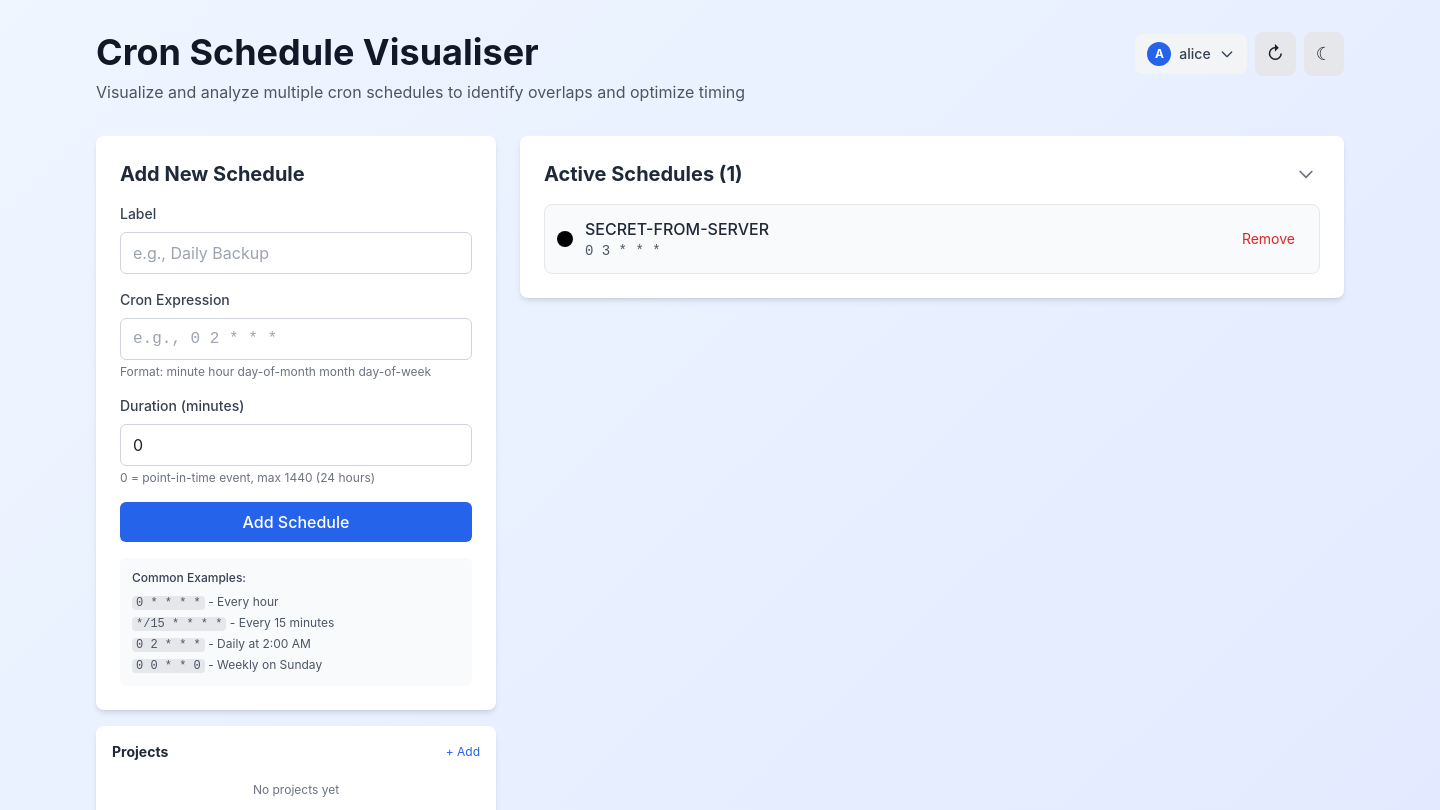
Test: App (sessions and server data) › signed in › clears the account data on sign out
Check: the text "SECRET-FROM-SERVER" is shown, box [585,219,769,239]
Click the button "A alice". click: [1191, 54]
box: [1135,34,1247,74]
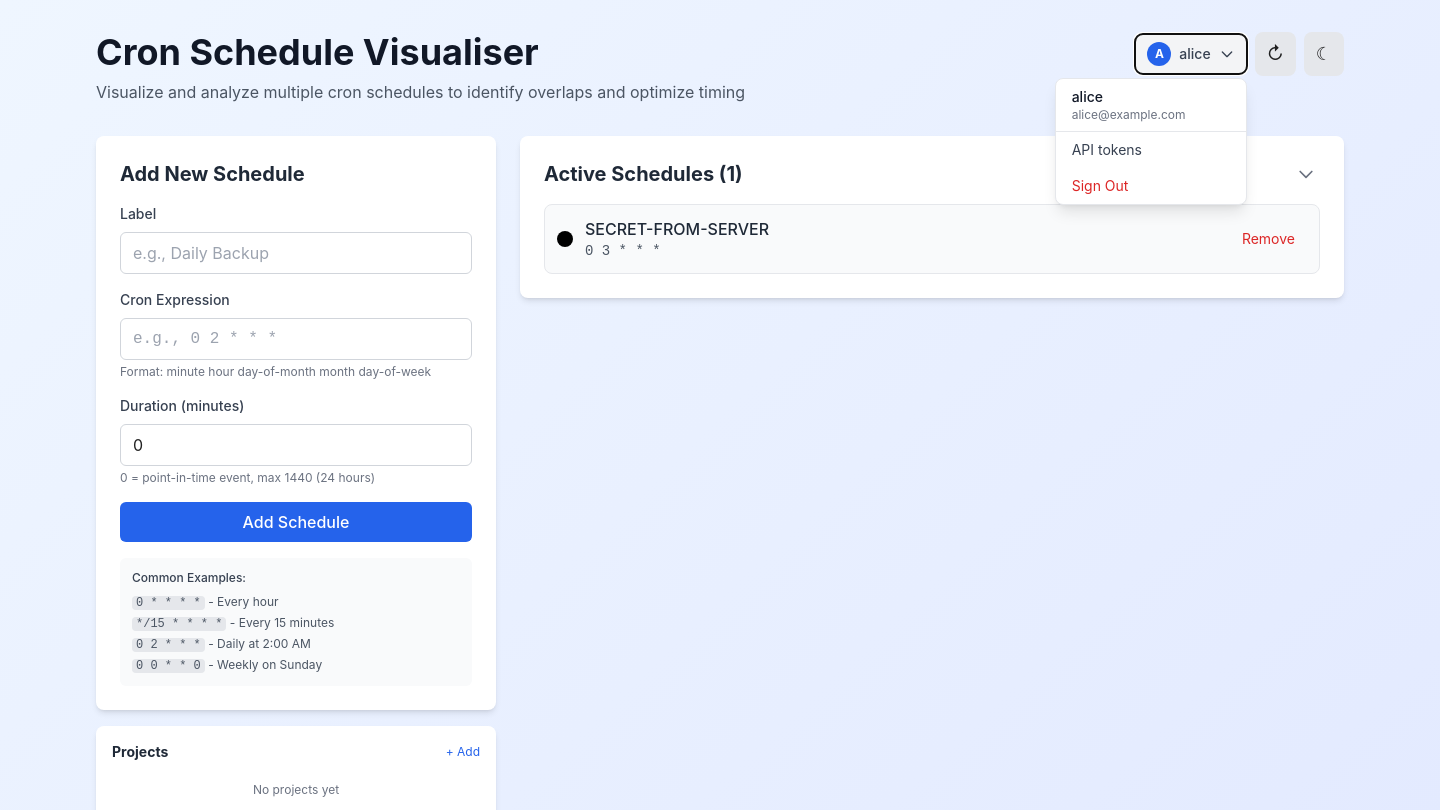
Click the button "Sign Out". click: [1151, 186]
box: [1056,168,1246,204]
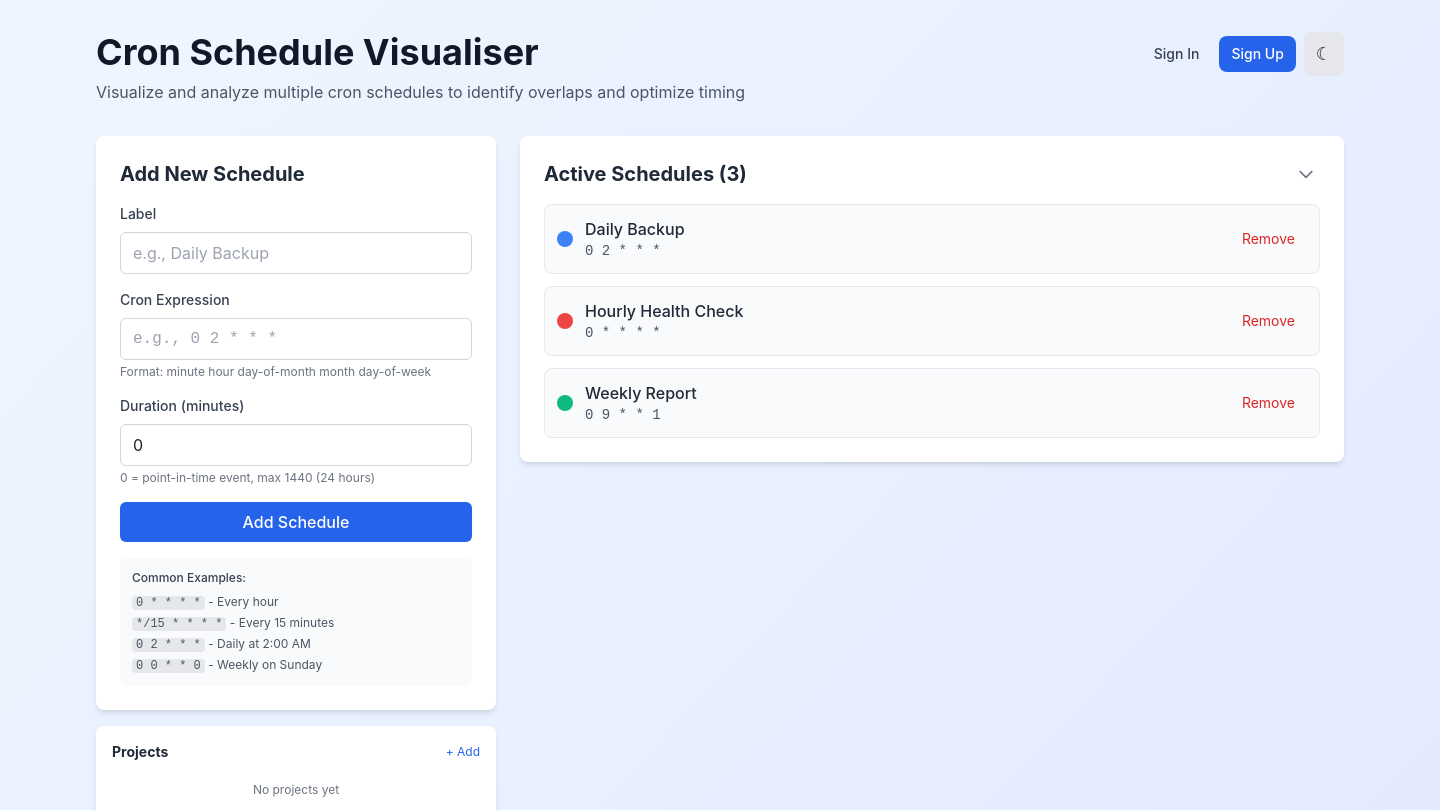
Check: the text "SECRET-FROM-SERVER" is gone
Check: the text "Daily Backup" is shown, box [585,219,685,239]
